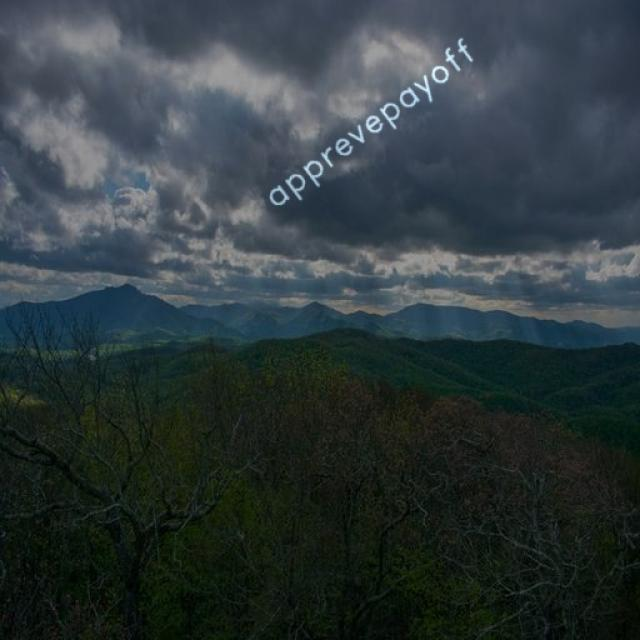watermark: (265, 28, 477, 215)
